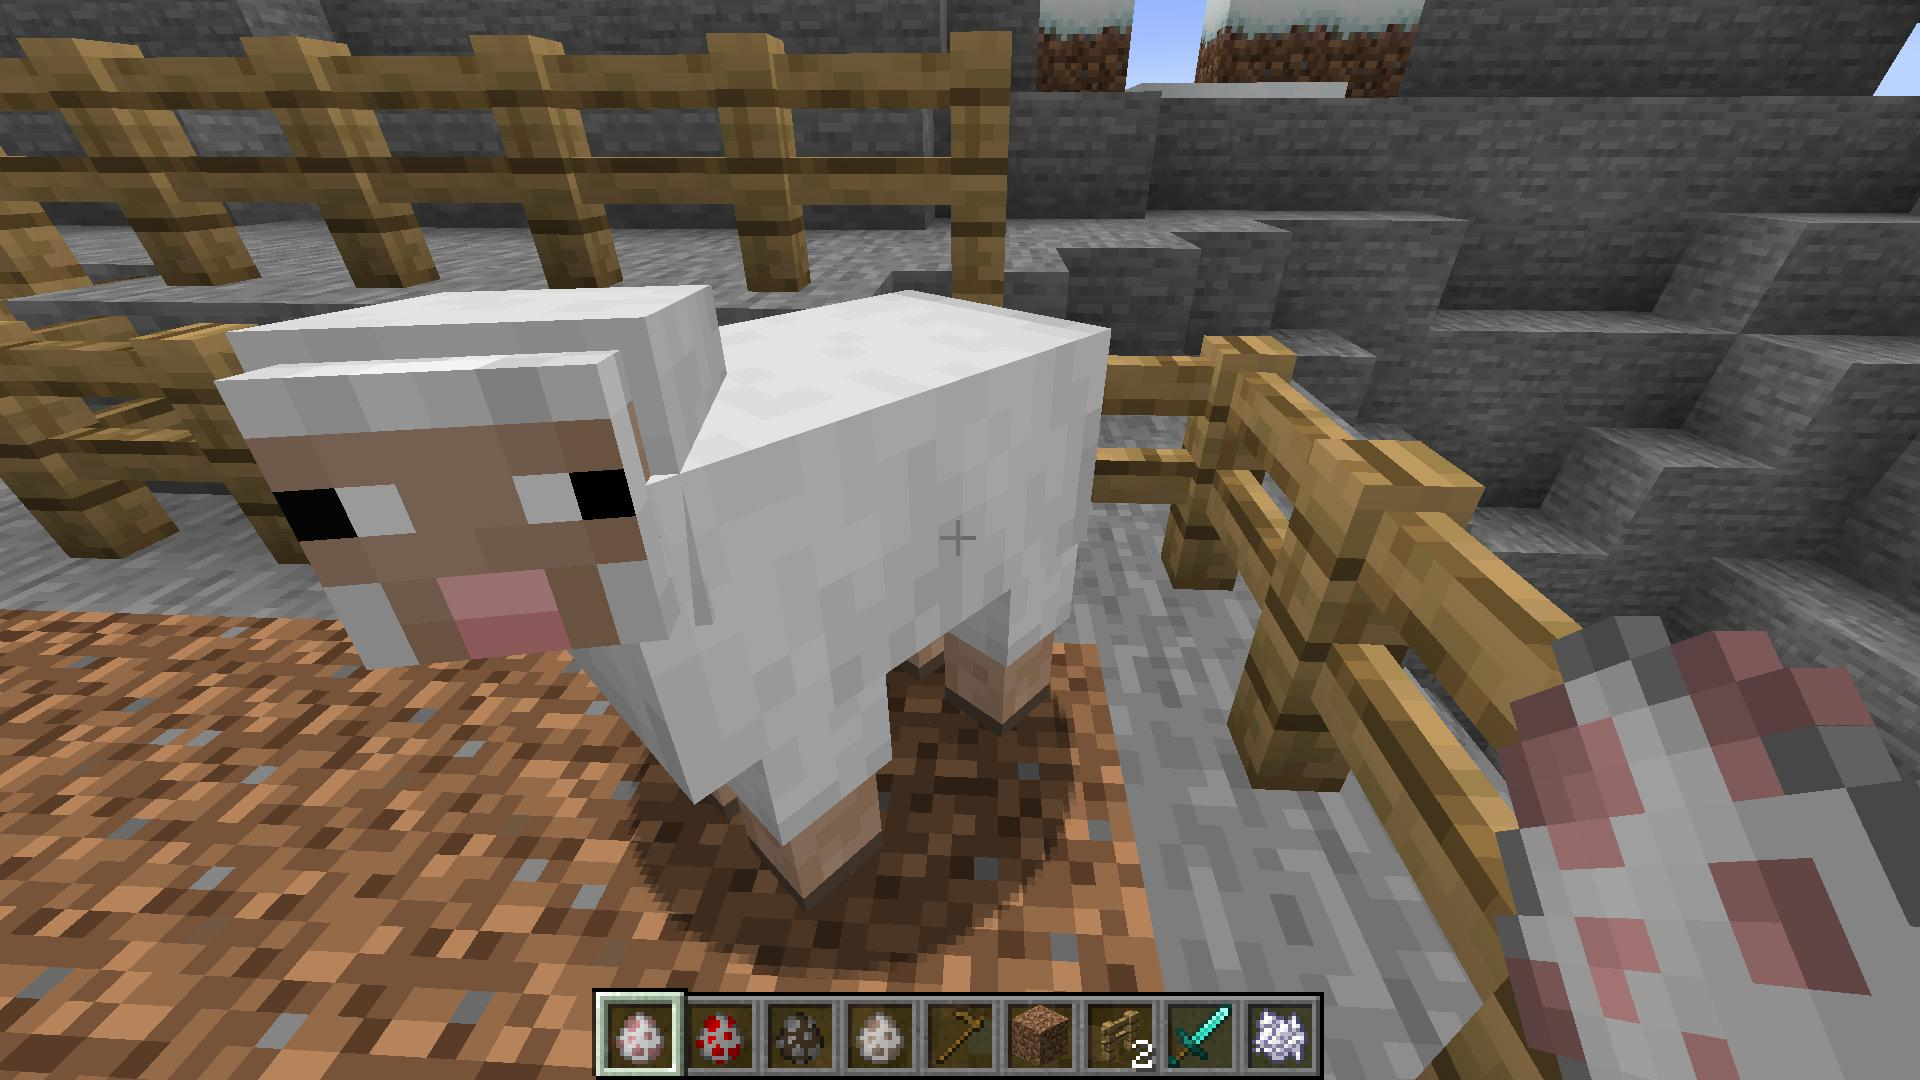sheep: (211, 270, 1117, 910)
